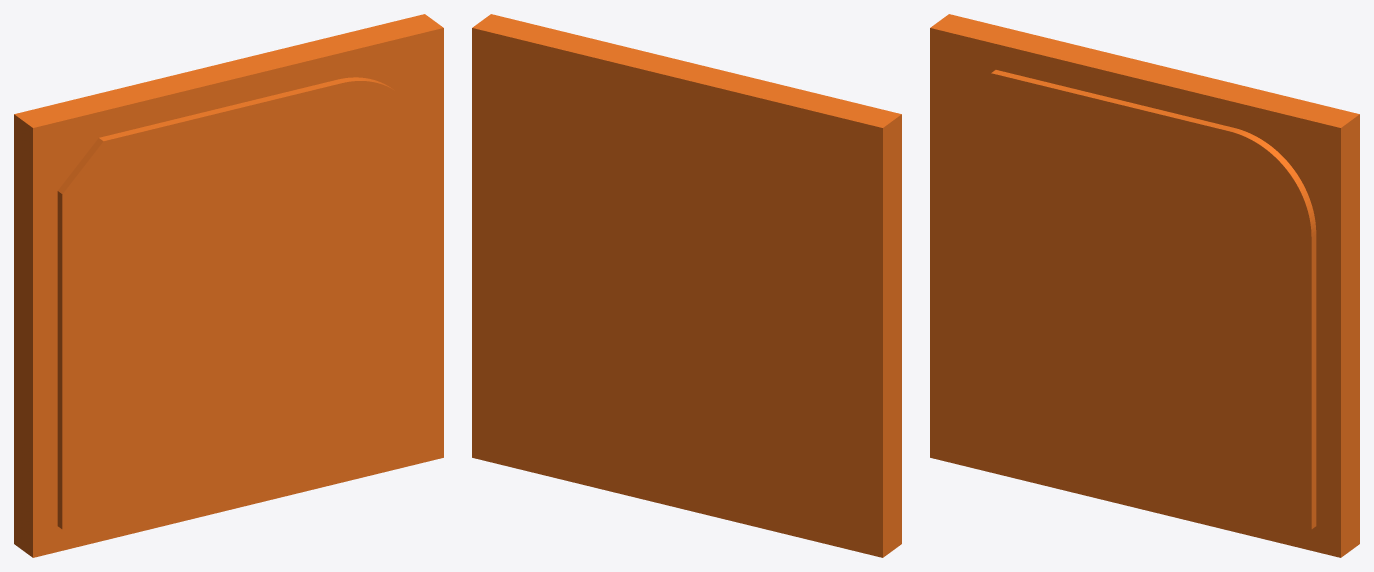
The picture shows the model from 3 angles, left to right: view 1: azimuth 30°, elevation 25°; view 2: azimuth 150°, elevation 25°; view 3: azimuth 330°, elevation 25°; orthographic projection.
Bounding box in the file's own units: 50 × 50 × 5.
